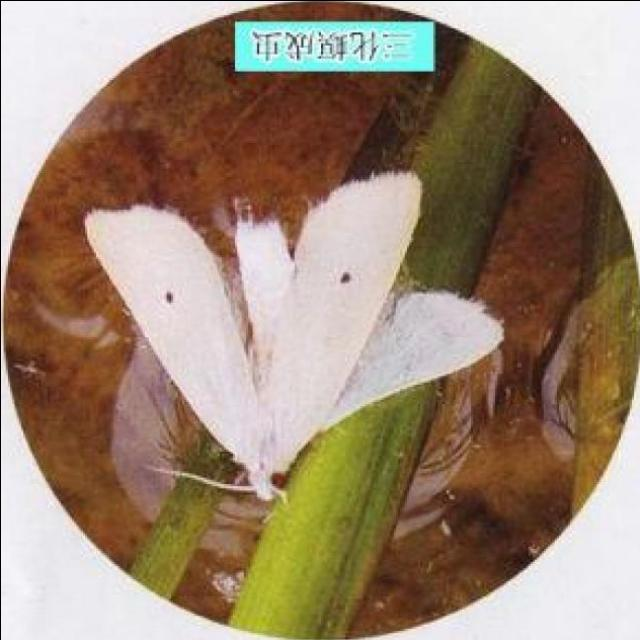stem borer: (86, 173, 501, 493)
